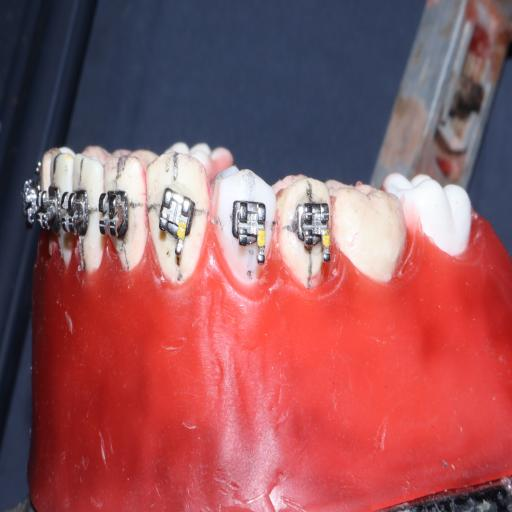incorrect_brace: (154, 182, 196, 257)
